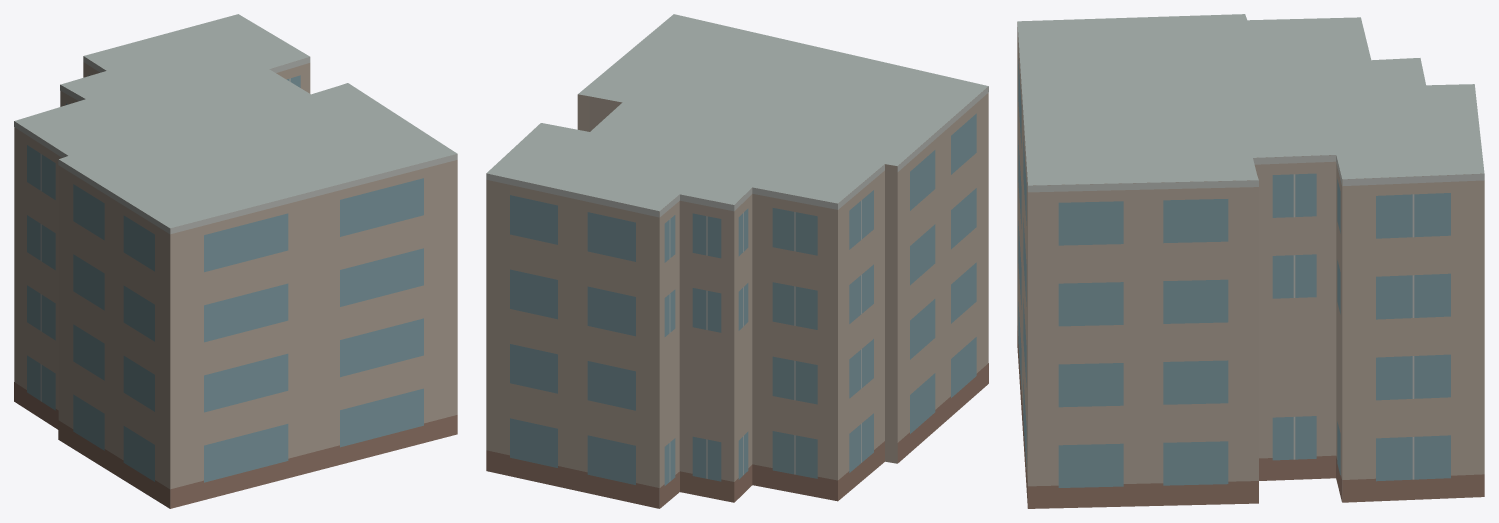
The model's file is survey-upis-32737440.glb.
3 renders of one model, left to right at view 1: azimuth 30°, elevation 25°; view 2: azimuth 150°, elevation 25°; view 3: azimuth 270°, elevation 25°, orthographic. The views are drawn at different scales.
Parts seen in each view (by area): view 1: survey-upis-32737440.tmp; view 2: survey-upis-32737440.tmp; view 3: survey-upis-32737440.tmp.
Part boxes in pixels (x1,y1,x2,y2): survey-upis-32737440.tmp: (14,14,457,508); survey-upis-32737440.tmp: (486,14,988,508); survey-upis-32737440.tmp: (1017,14,1484,508).
Bounding box in the file's own units: 13.1 × 11.5 × 15.07.
